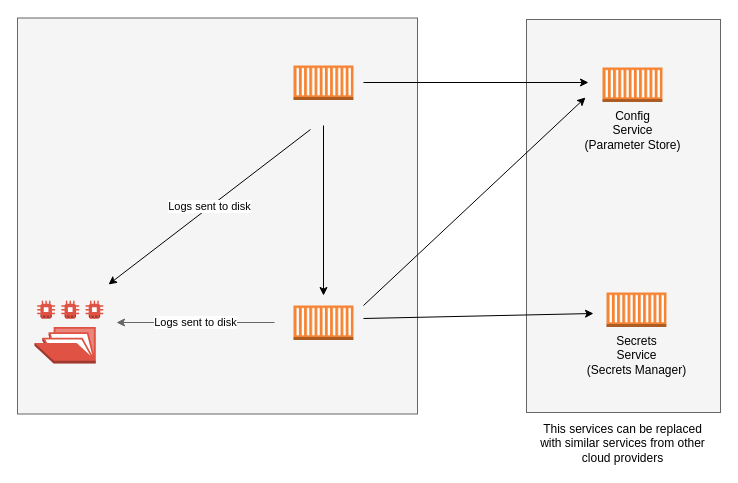
This 738x483 diagram has some shape labels left out. Each missing label, with the centre of its shape:
Fraud Service: (323,82)
Siebel Service: (323,322)
